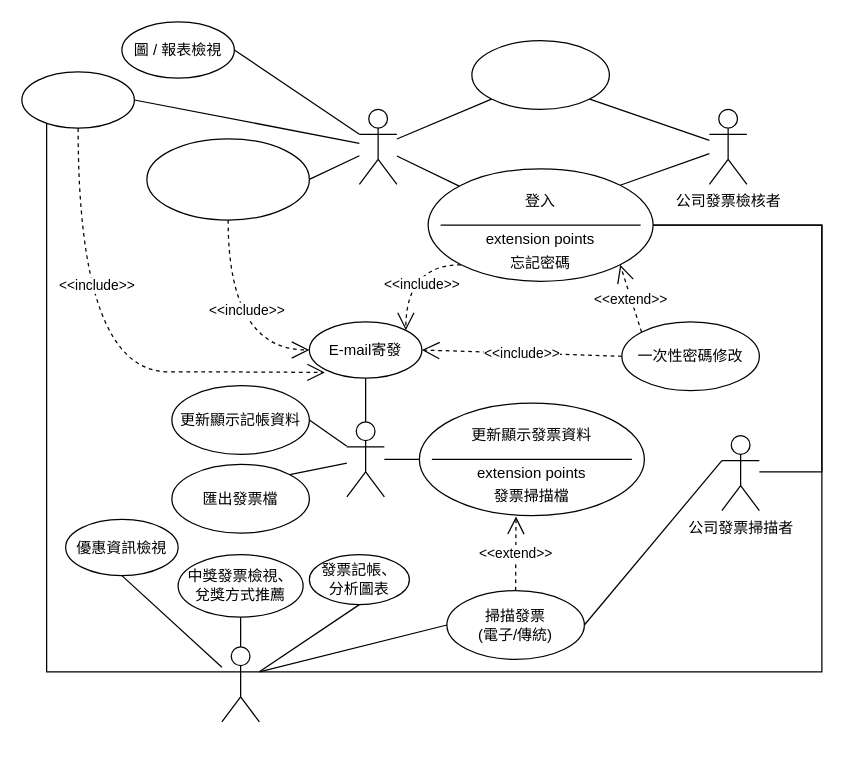
Image size: 845x770. Some labels were removed from this diagram. Here are the shapes that lost their labels. From the top down, the box of each, then its label:
(471, 39, 609, 109): 修改/檢視發票內容
(21, 71, 134, 128): 註冊會員
(358, 108, 397, 184): 公司管理者
(146, 138, 309, 220): 修改會員資料及權限
(346, 421, 384, 497): system
(221, 646, 259, 722): 個人使用者
